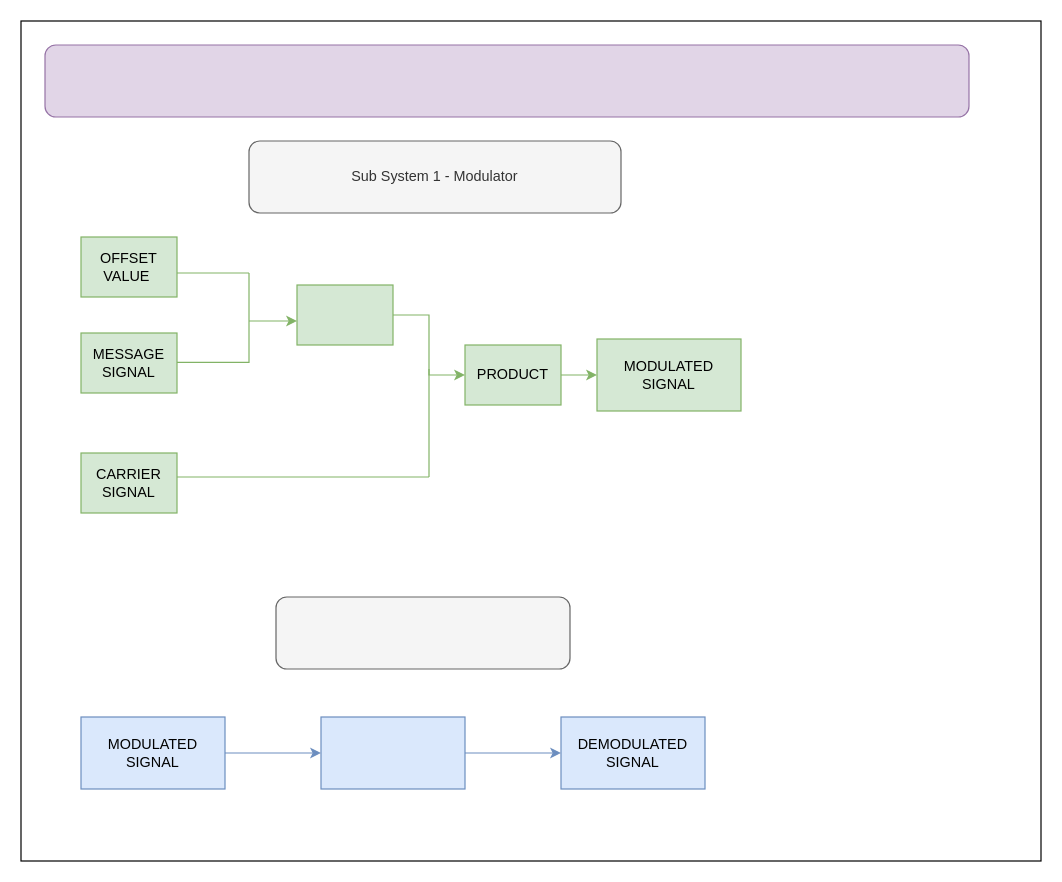
Image size: 1062x882. Some labels were removed from this diagram. The shapes that lost their labels are listed below. From the top down, each one's centre as x and y in pixels, then its label:
At (506,80): "AM MODULATION & DEMODULATION".
At (344,314): "ADD".
At (422,632): "Sub System 2 - Demodulator".
At (392,752): "DEMODULATOR".
